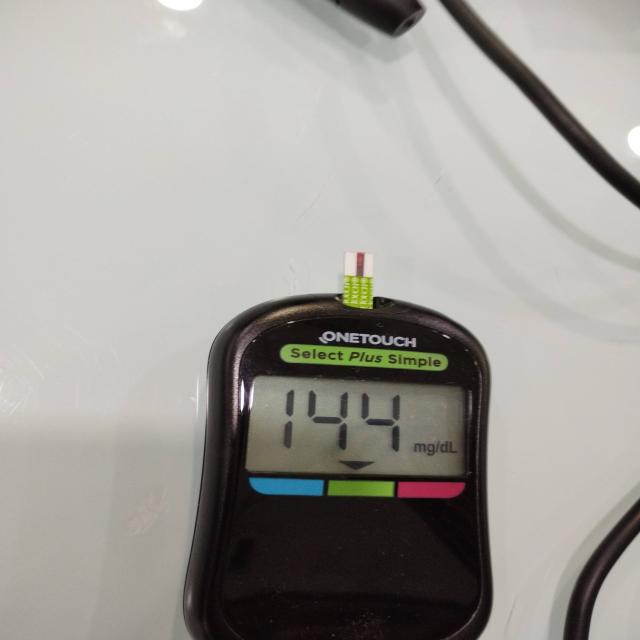gluco: (181, 256, 494, 640)
